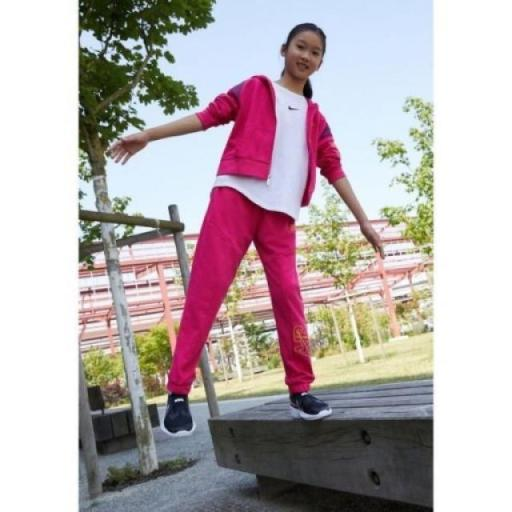Nike: (287, 102, 299, 112)
